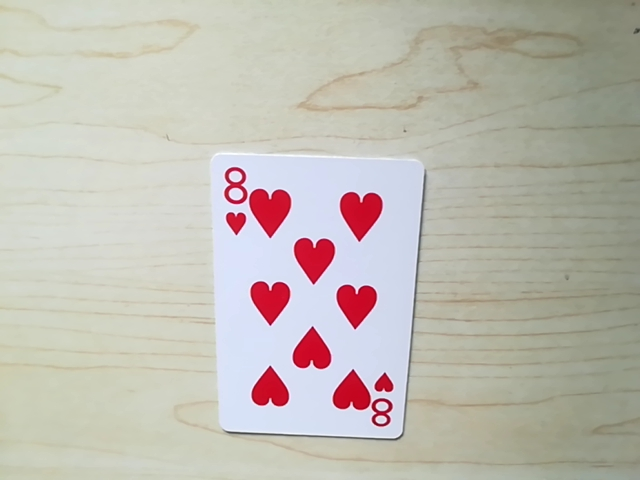hx 8: (364, 380, 401, 435), (216, 163, 255, 211)
